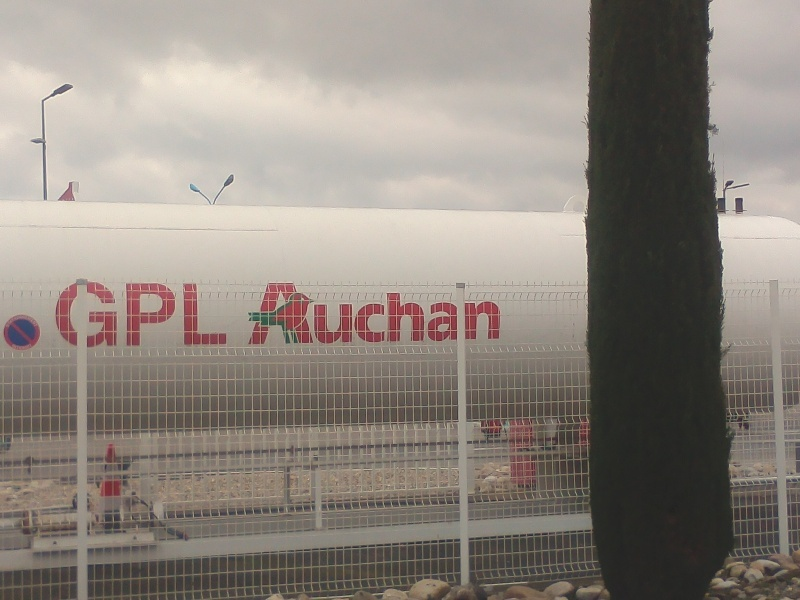text: (65, 277, 80, 349), (81, 277, 96, 349), (97, 277, 112, 349), (113, 277, 128, 349), (129, 277, 144, 349), (145, 277, 160, 349), (161, 277, 176, 349), (177, 277, 192, 349), (193, 277, 208, 349), (209, 277, 224, 349), (257, 283, 272, 345), (273, 283, 288, 345), (289, 283, 304, 345), (305, 283, 320, 345), (321, 283, 336, 345), (337, 283, 352, 345), (353, 283, 368, 345), (369, 283, 384, 345), (385, 283, 400, 345), (401, 283, 416, 345), (417, 283, 432, 345), (433, 283, 448, 345), (449, 283, 464, 345), (465, 283, 480, 345), (481, 283, 496, 345), (56, 277, 64, 349), (250, 283, 256, 345), (225, 277, 229, 349), (497, 283, 501, 345), (17, 315, 32, 329), (33, 315, 42, 329), (17, 344, 33, 351), (13, 315, 16, 329), (12, 344, 16, 351)
